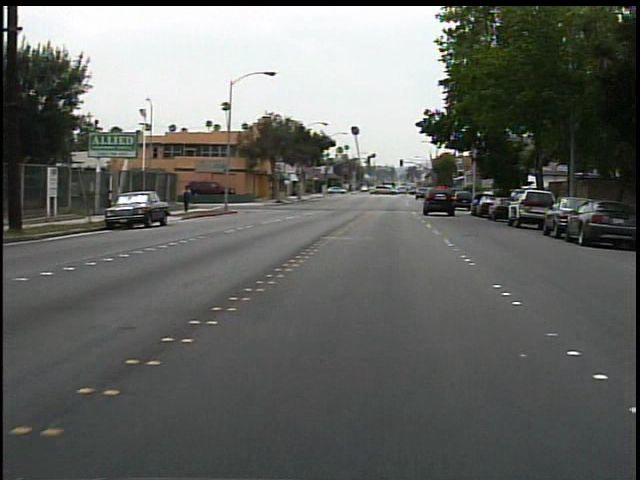person: (183, 182, 200, 216)
